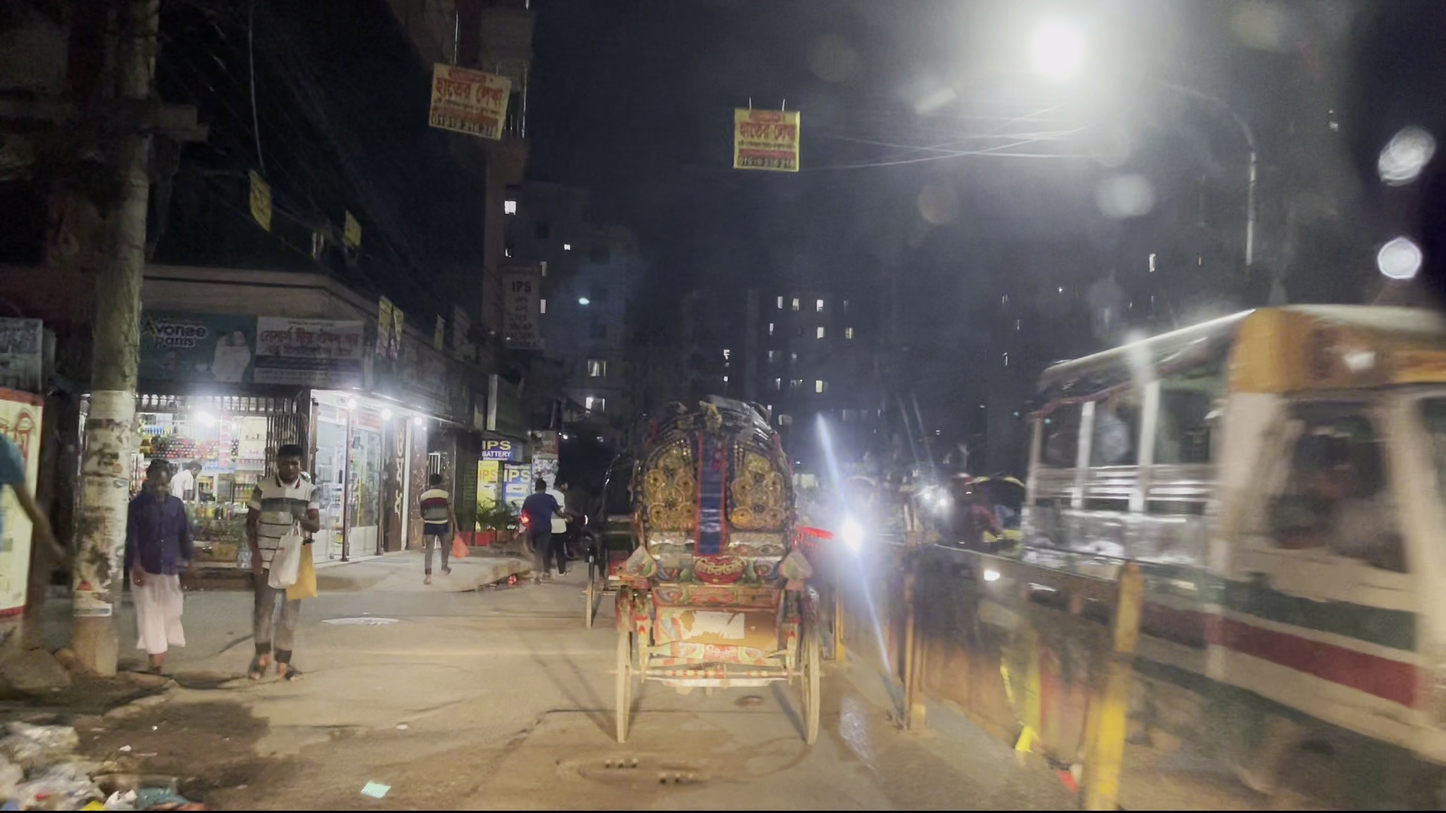motorcycle: (824, 483, 890, 584)
person: (215, 446, 323, 677), (109, 426, 179, 655), (943, 457, 1003, 580), (406, 452, 460, 587), (517, 462, 569, 591)
